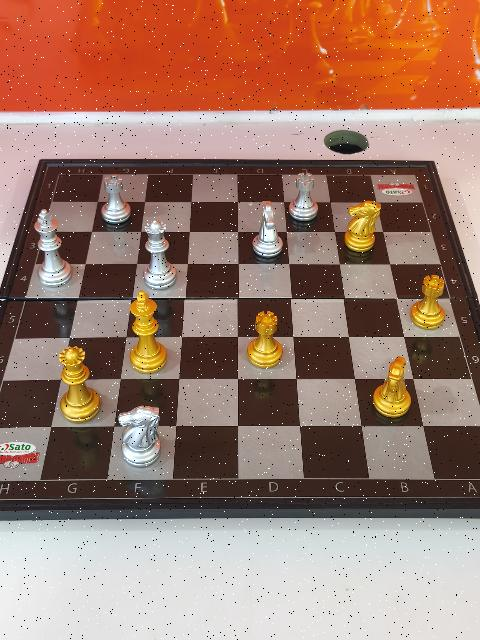black_king: (128, 292, 168, 376)
black_knight: (372, 356, 413, 420), (343, 201, 382, 256)
black_queen: (57, 346, 102, 425)
black_rook: (246, 311, 284, 372), (410, 274, 447, 332)
white_king: (35, 209, 71, 288)
white_knight: (118, 406, 163, 467), (253, 200, 283, 257)
white_queen: (143, 219, 177, 291)
white_rook: (288, 173, 320, 225), (100, 175, 132, 226)
